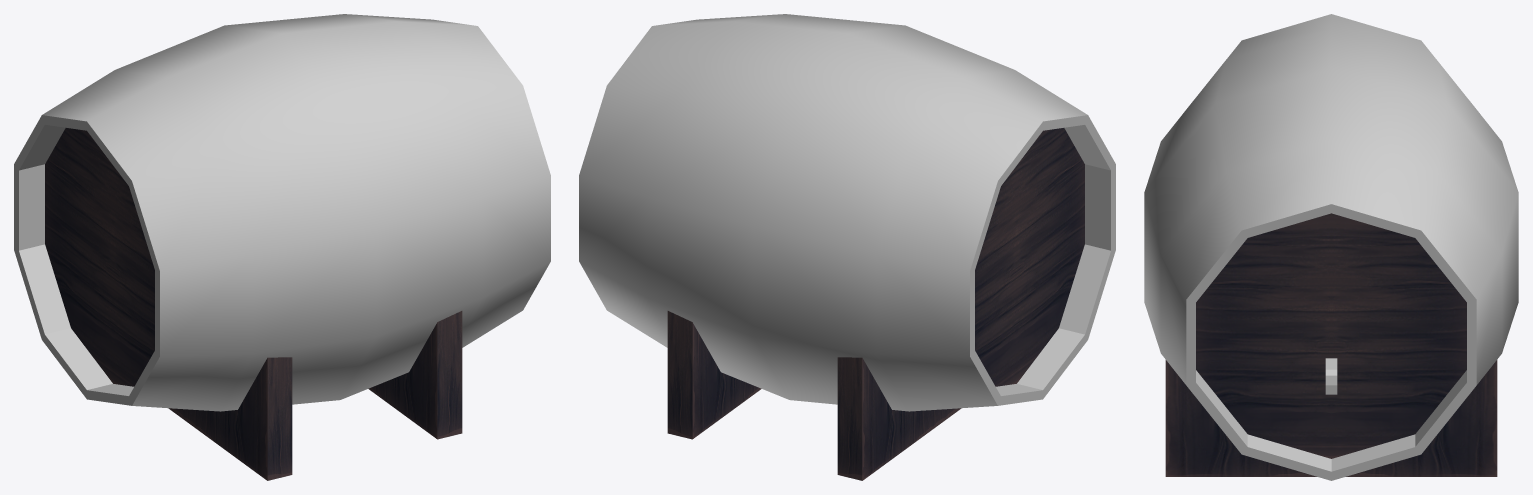
Rendered from Big_Barrel.fbx.
3 renders of one model, left to right at view 1: azimuth 30°, elevation 25°; view 2: azimuth 150°, elevation 25°; view 3: azimuth 270°, elevation 25°, orthographic.
Visible parts, largest first — view 1: Big_Barrel; view 2: Big_Barrel; view 3: Big_Barrel.
Boxes of the visible parts, bbox=[...] form: Big_Barrel: bbox=[14, 14, 550, 480]; Big_Barrel: bbox=[579, 14, 1115, 480]; Big_Barrel: bbox=[1144, 14, 1518, 480].
Size of the model in its own units: 0.7015 by 0.6117 by 0.5748.
